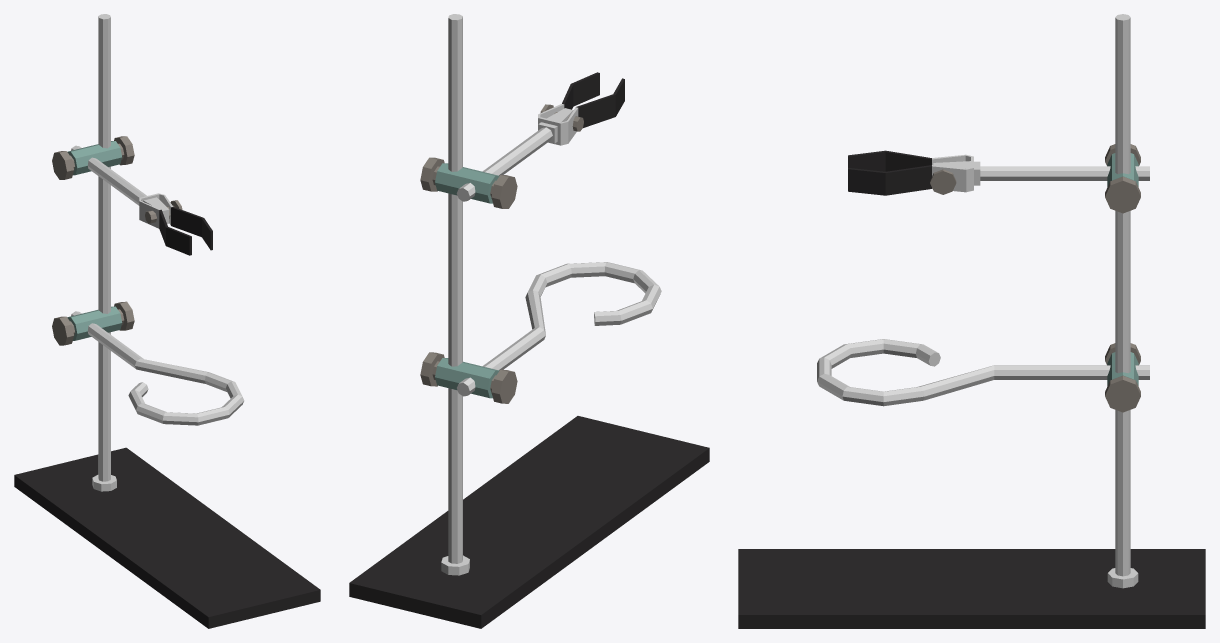
Rendered from vial_holder.fbx.
The picture shows the model from 3 angles, left to right: view 1: azimuth 30°, elevation 25°; view 2: azimuth 150°, elevation 25°; view 3: azimuth 270°, elevation 25°; orthographic projection. The views are drawn at different scales.
Visible parts, largest first — view 1: Vial_Holder; view 2: Vial_Holder; view 3: Vial_Holder.
Boxes of the visible parts, x1,y1,x2,y2 form: Vial_Holder: (14,14,320,628); Vial_Holder: (349,14,709,628); Vial_Holder: (738,14,1205,628).
Size of the model in its own units: 11.08 by 41 by 30.
Materials: 1 (1 with a texture image).
